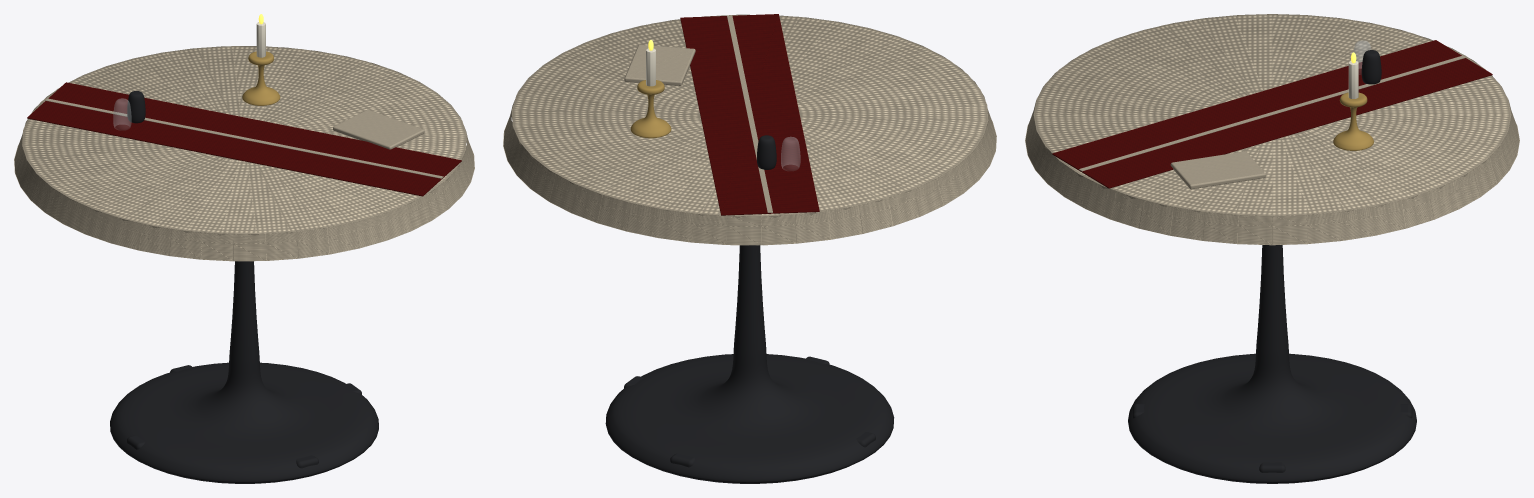
File: table.glb
The picture shows the model from 3 angles, left to right: view 1: azimuth 30°, elevation 25°; view 2: azimuth 150°, elevation 25°; view 3: azimuth 270°, elevation 25°; orthographic projection. The views are drawn at different scales.
Visible parts, largest first — view 1: cloth, pedestal, runner, cloth drape, napkin, runner stripe, candle holder, pepper, salt; view 2: cloth, pedestal, runner, cloth drape, napkin, candle holder, runner stripe, pepper, salt; view 3: cloth, pedestal, runner, cloth drape, napkin, runner stripe, candle holder, pepper.
Part boxes in pixels (left/top/right/bottom): cloth: left=22, top=46, right=466, bottom=235; pedestal: left=110, top=261, right=378, bottom=483; runner: left=27, top=82, right=461, bottom=196; cloth drape: left=14, top=46, right=474, bottom=261; napkin: left=333, top=109, right=424, bottom=149; runner stripe: left=45, top=98, right=443, bottom=178; candle holder: left=242, top=51, right=280, bottom=105; pepper: left=127, top=91, right=145, bottom=123; salt: left=113, top=98, right=131, bottom=130; cloth: left=511, top=15, right=988, bottom=218; pedestal: left=605, top=245, right=894, bottom=483; runner: left=680, top=14, right=819, bottom=215; cloth drape: left=503, top=14, right=996, bottom=245; napkin: left=624, top=44, right=695, bottom=85; candle holder: left=630, top=80, right=671, bottom=138; runner stripe: left=727, top=15, right=772, bottom=212; pepper: left=757, top=135, right=776, bottom=169; salt: left=781, top=137, right=800, bottom=170; cloth: left=1033, top=14, right=1511, bottom=215; pedestal: left=1128, top=245, right=1416, bottom=483; runner: left=1052, top=40, right=1492, bottom=188; cloth drape: left=1025, top=14, right=1519, bottom=245; napkin: left=1170, top=151, right=1265, bottom=189; runner stripe: left=1079, top=55, right=1465, bottom=171; candle holder: left=1333, top=92, right=1373, bottom=150; pepper: left=1361, top=50, right=1381, bottom=84.
Bounding box in the file's own units: 1.1 × 0.9856 × 1.1.
9 materials, 4 textured.
